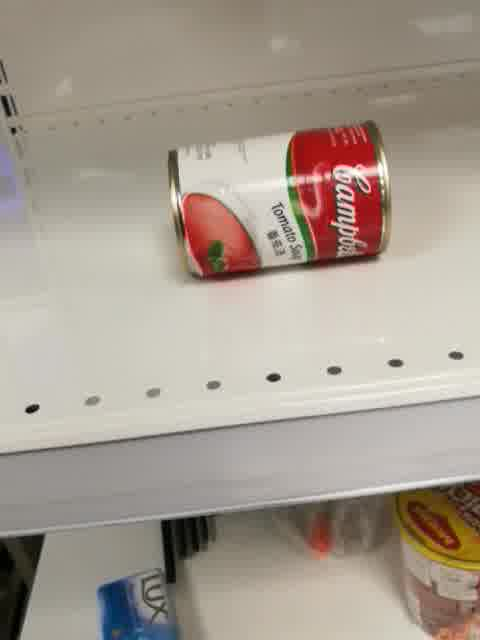tomatosoup: (166, 118, 394, 282)
